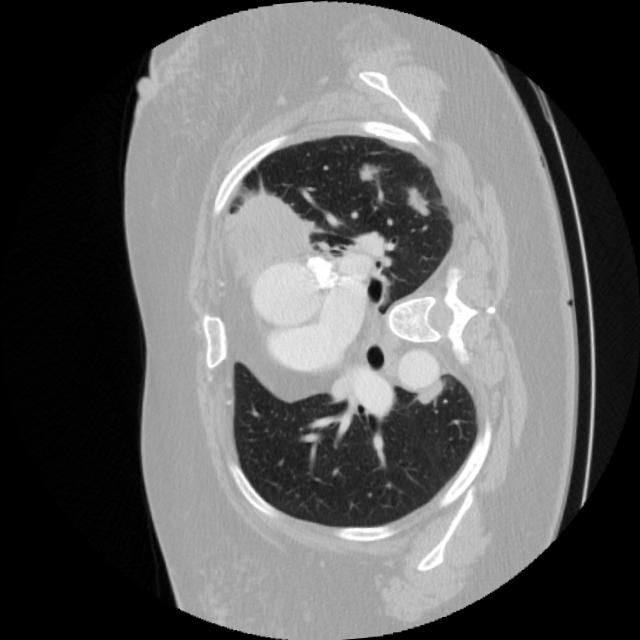nodule: (343, 146, 389, 192)
